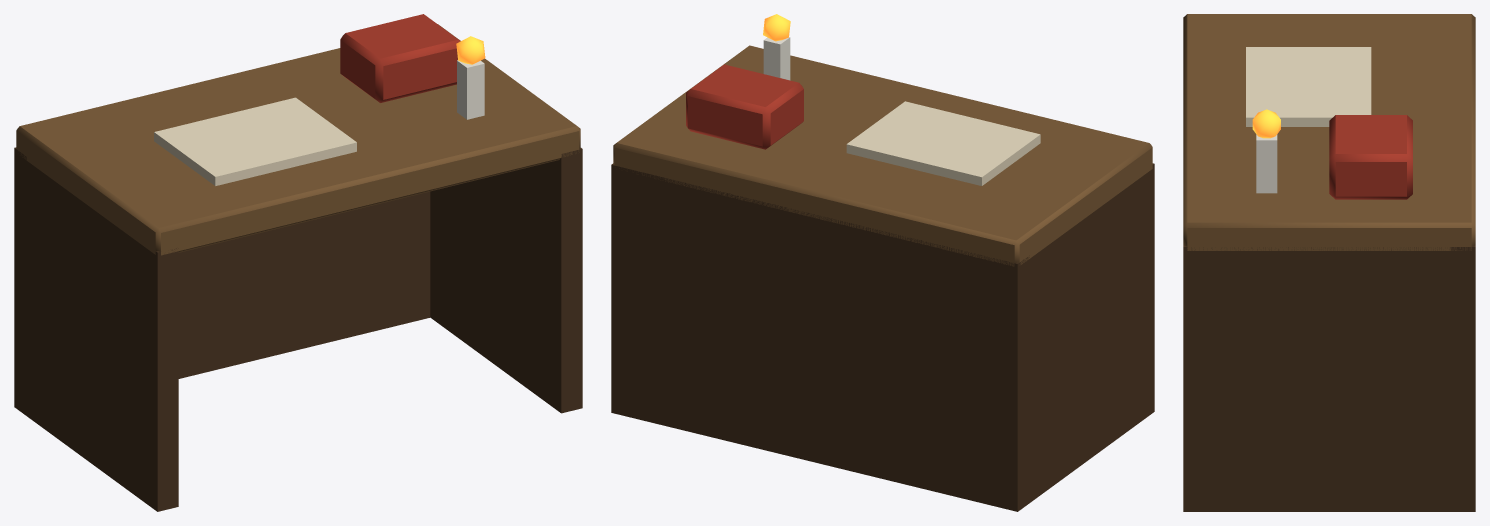
Rendered from desk.glb.
3 views of the same model, side by side, from view 1: azimuth 30°, elevation 25°; view 2: azimuth 150°, elevation 25°; view 3: azimuth 270°, elevation 25° (orthographic). The views are drawn at different scales.
Visible parts, largest first — view 1: building, candle; view 2: building, candle; view 3: building, candle.
Part boxes in pixels (bbox=[...]): building: bbox=[14, 14, 582, 511]; candle: bbox=[456, 36, 485, 119]; building: bbox=[611, 45, 1154, 511]; candle: bbox=[763, 14, 790, 80]; building: bbox=[1183, 14, 1475, 511]; candle: bbox=[1252, 109, 1280, 193].
Size of the model in its own units: 1.2 by 0.97 by 0.7.
